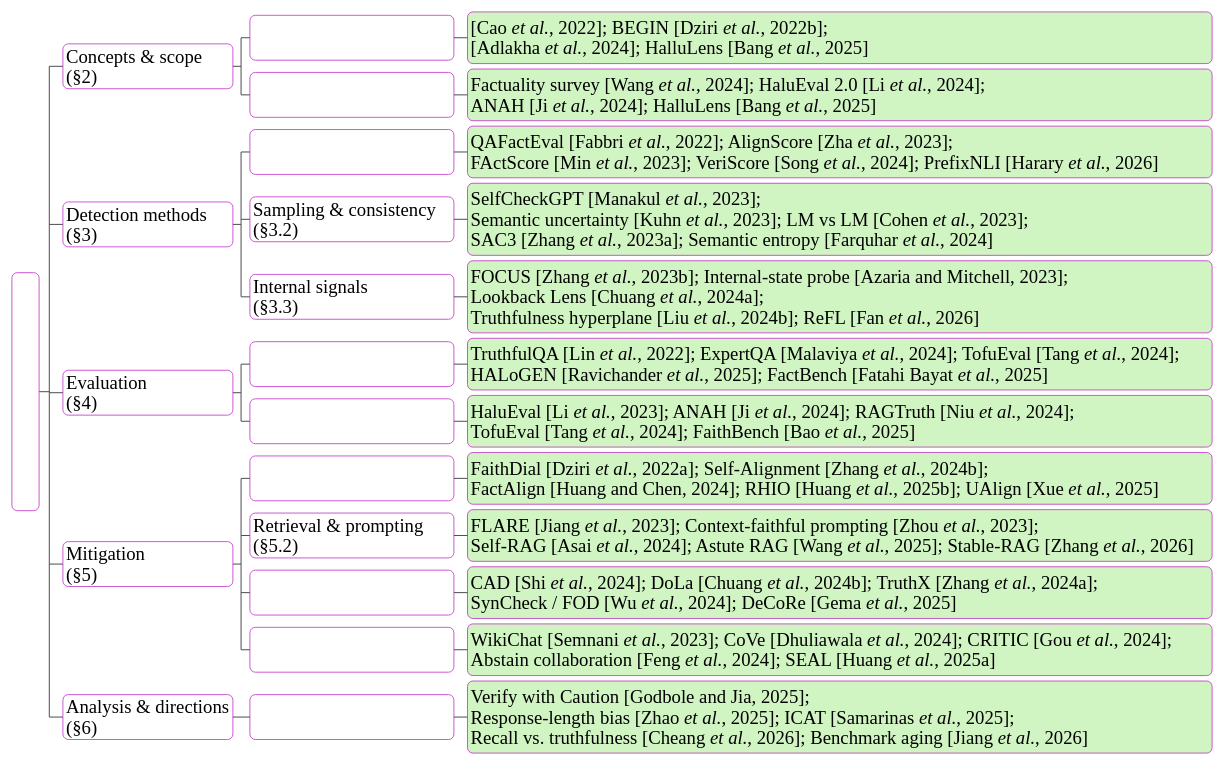
The diagram is 1225 pixels wide and 766 high, and some of its shapes have lost their labels. Here are the shapes that lost their labels. From the top down, the centre of each, then its label:
At (351,37): "Reference frames (§2.1)".
At (351,94): "Error relations & history (§2.2)".
At (351,151): "External evidence (§3.1)".
At (351,364): "Generation evaluation (§4.1)".
At (25,391): "Hallucination in text LLMs".
At (351,421): "Detector evaluation (§4.2)".
At (351,478): "Training & alignment (§5.1)".
At (351,592): "Decoding & intervention (§5.3)".
At (351,649): "Revision & abstention (§5.4)".
At (351,717): "Benefits, limits & next steps".
